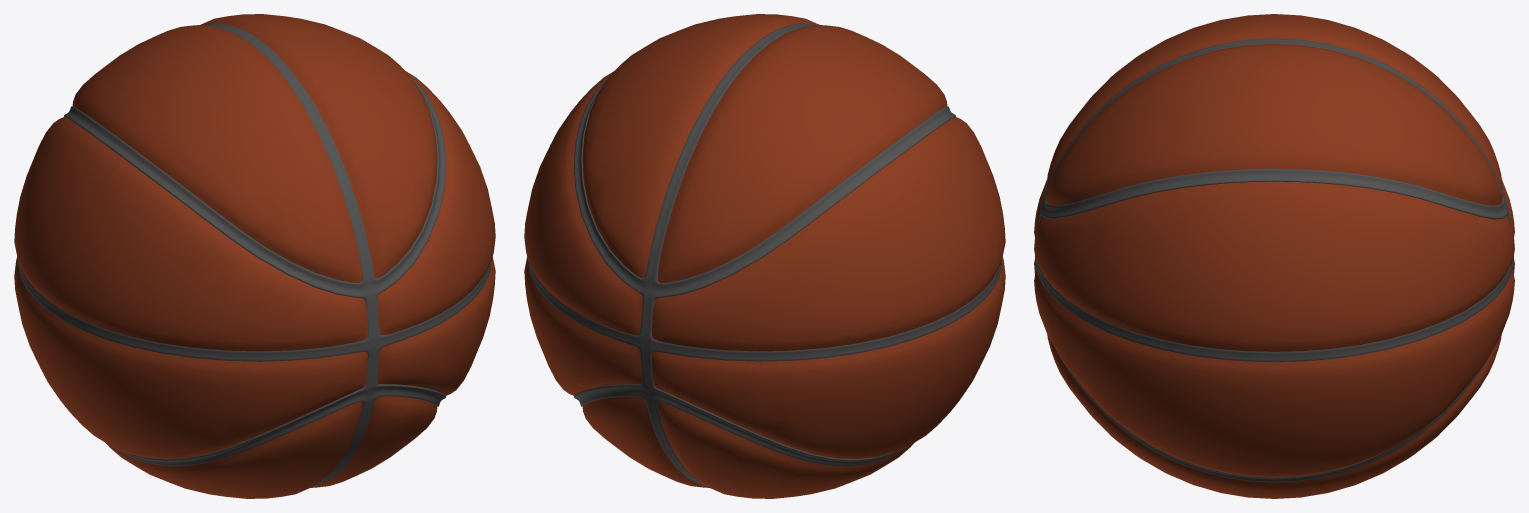
File: basketball_ball.glb
3 renders of one model, left to right at view 1: azimuth 30°, elevation 25°; view 2: azimuth 150°, elevation 25°; view 3: azimuth 270°, elevation 25°, orthographic.
Parts seen in each view (by area): view 1: Roundcube.001_1, Roundcube.000_0; view 2: Roundcube.001_1, Roundcube.000_0; view 3: Roundcube.001_1, Roundcube.000_0.
Boxes of the visible parts, bbox=[...] form: Roundcube.001_1: bbox=[14, 14, 495, 498]; Roundcube.000_0: bbox=[18, 23, 491, 485]; Roundcube.001_1: bbox=[524, 14, 1005, 498]; Roundcube.000_0: bbox=[528, 23, 1001, 485]; Roundcube.001_1: bbox=[1034, 14, 1514, 498]; Roundcube.000_0: bbox=[1035, 38, 1513, 482].
Size of the model in its own units: 1.95 by 1.95 by 1.94.
